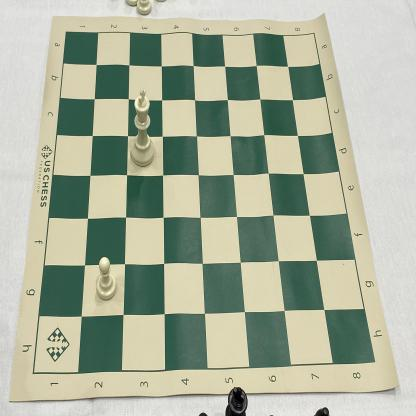white-king: (128, 85, 157, 169)
white-pawn: (92, 251, 120, 305)
